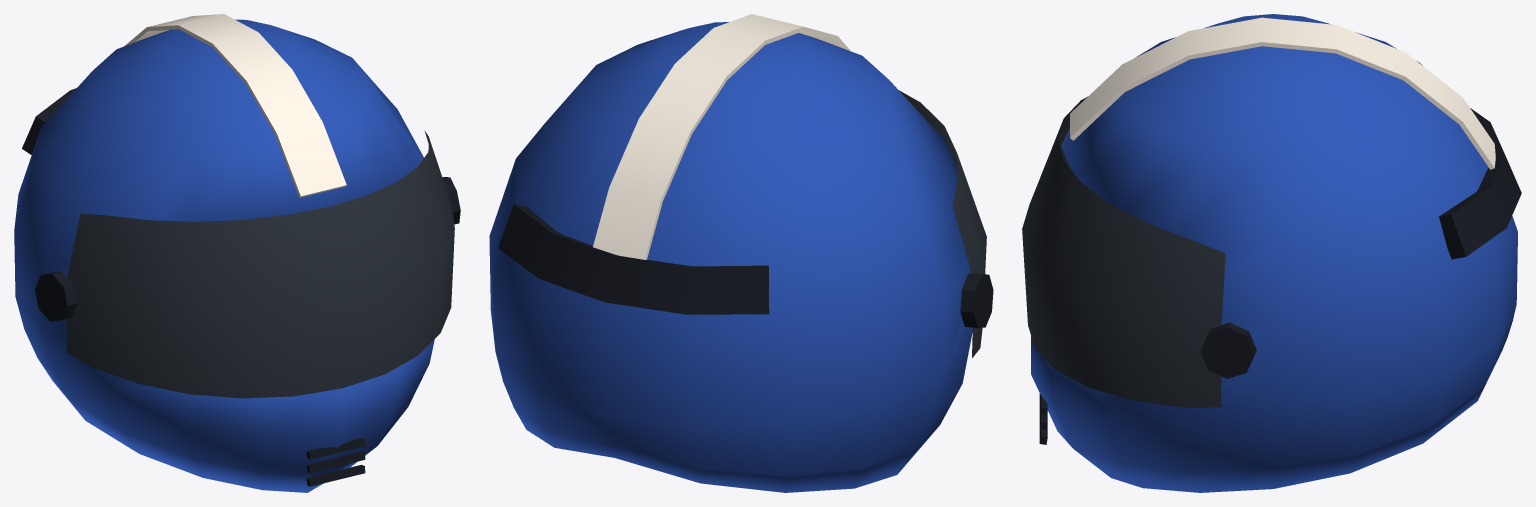
The model's file is helmet_full.glb.
3 views of the same model, side by side, from view 1: azimuth 30°, elevation 25°; view 2: azimuth 150°, elevation 25°; view 3: azimuth 270°, elevation 25° (orthographic). The views are drawn at different scales.
Visible parts, largest first — view 1: helmet_full; view 2: helmet_full; view 3: helmet_full.
Boxes of the visible parts, x1,y1,x2,y2 form: helmet_full: (14,14,460,492); helmet_full: (489,14,993,492); helmet_full: (1022,14,1521,492).
Bounding box in the file's own units: 0.4445 × 0.4183 × 0.4328.
